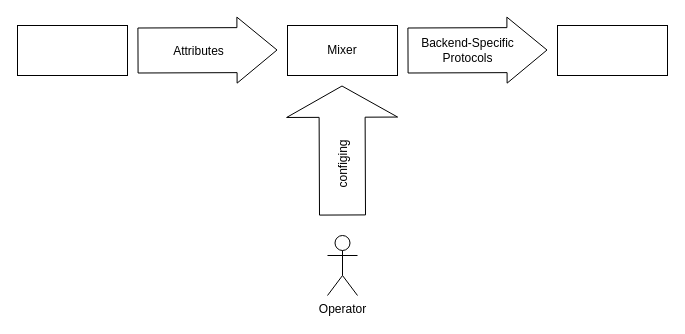
The diagram is 685 pixels wide and 334 high, and some of its shapes have lost their labels. Here are the shapes that lost their labels. From the top down, the centre of each, then its label:
At [72,50]: "Envoy".
At [612,50]: "Infra Backends".
